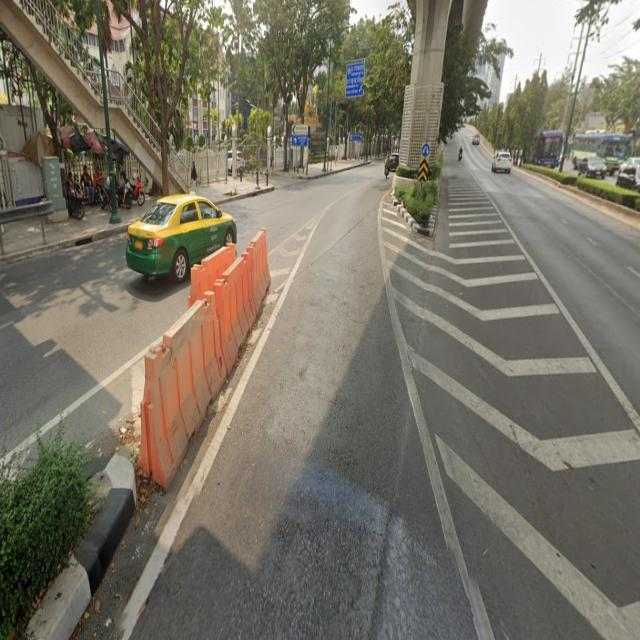fallen_object: (112, 290, 245, 474), (200, 232, 288, 363)
